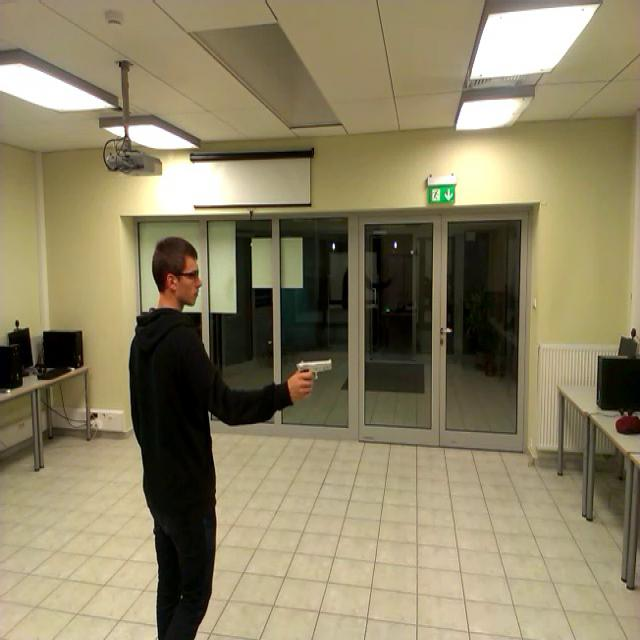handgun: (286, 342, 342, 396)
